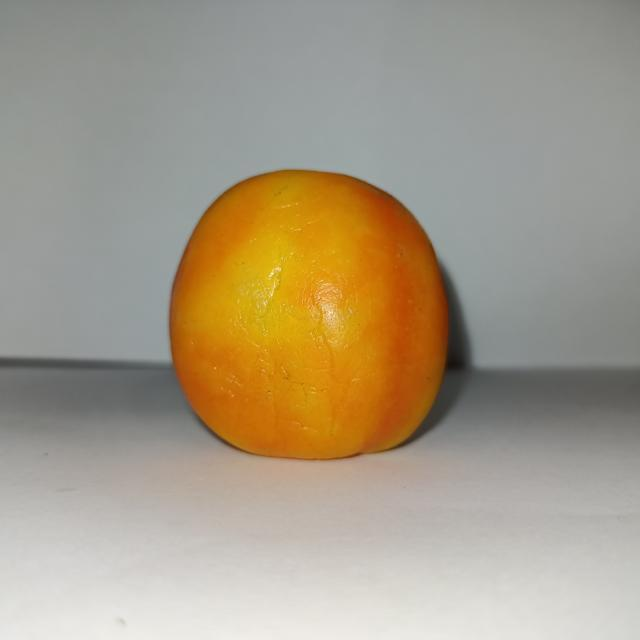Red: (167, 167, 450, 460)
